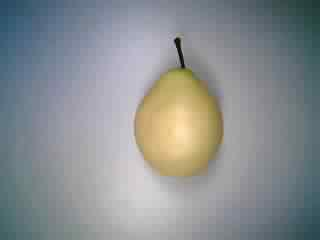pear: (115, 31, 234, 187)
